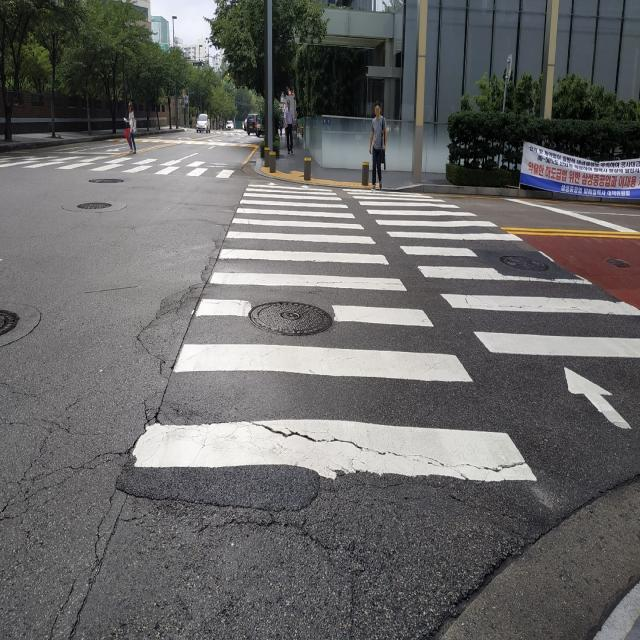횡단보도: (132, 185, 640, 484), (0, 129, 249, 177)
